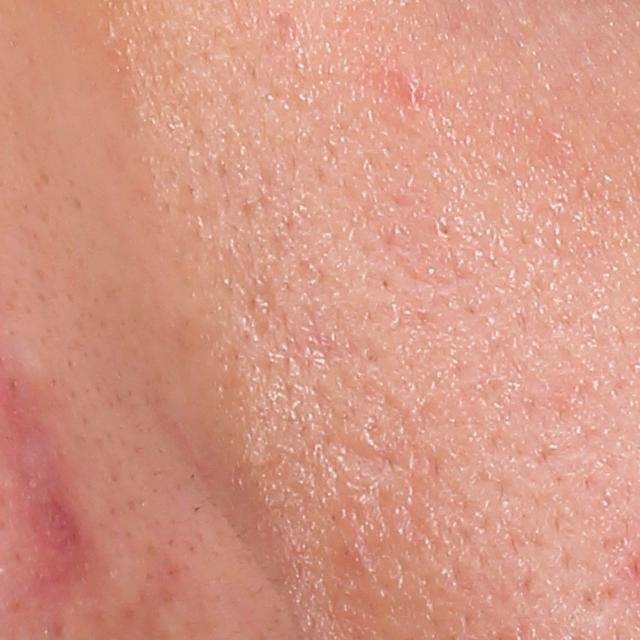papule: (10, 480, 90, 586)
